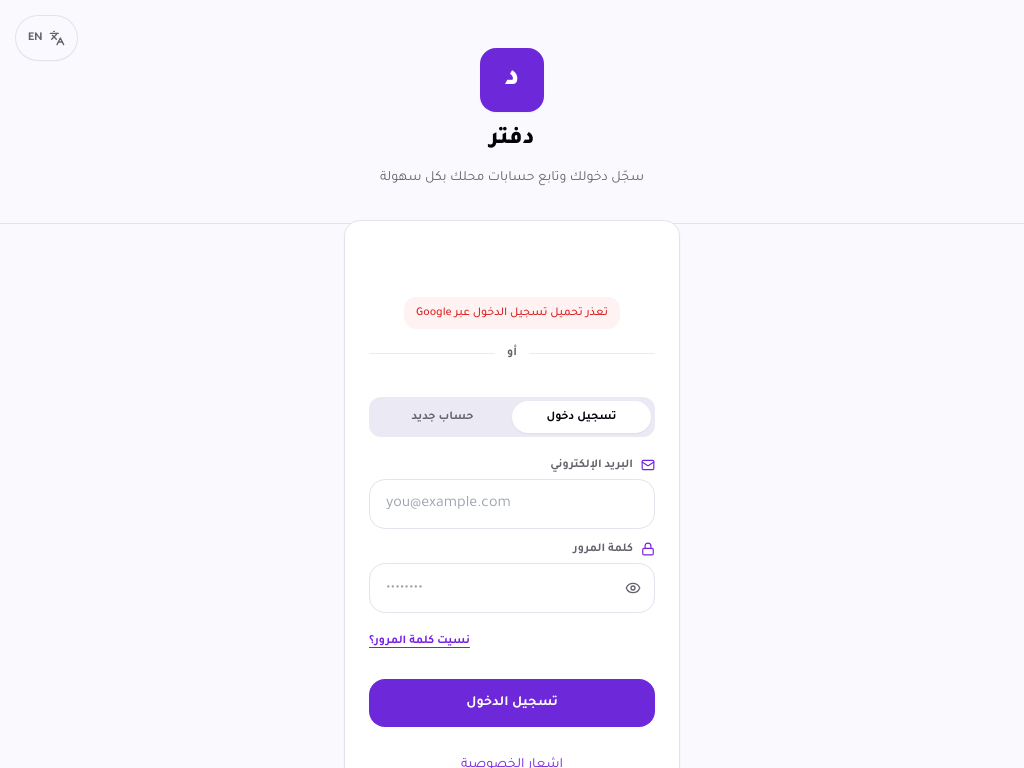
صفحة تسجيل الدخول بدون رقم الجوال › ينشئ الحساب بالبريد دون طلب رقم جوال
Click the button "حساب جديد": (442, 417) x1=373 y1=401 x2=512 y2=433
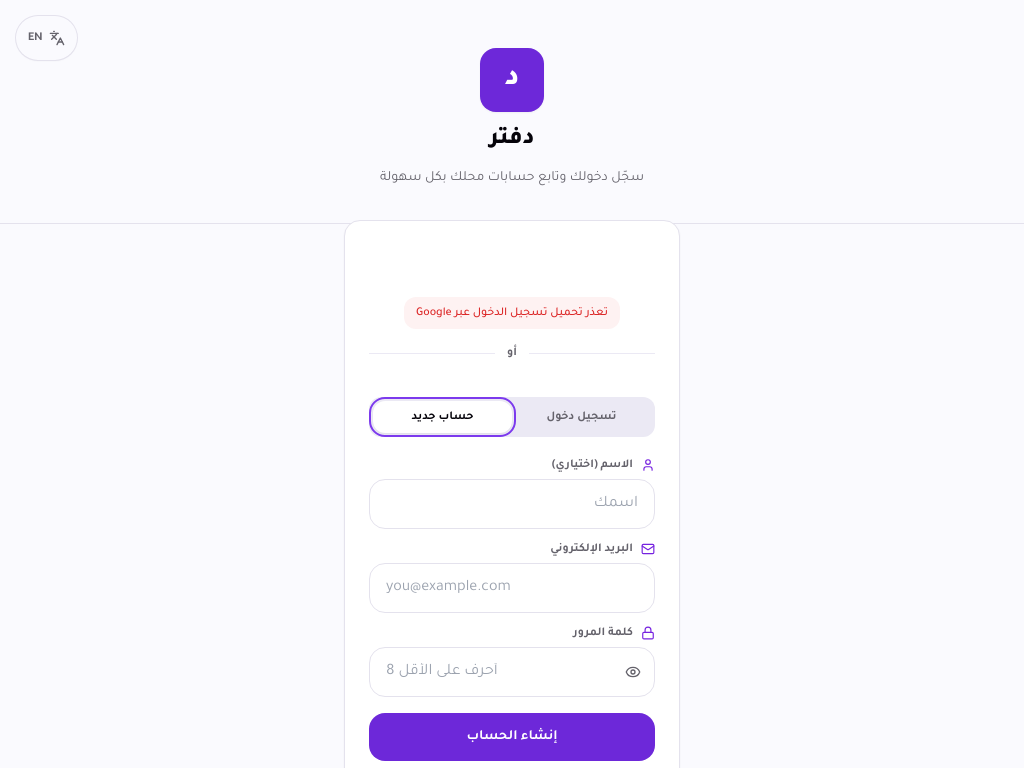
In the field labelled "البريد الإلكتروني": (512, 588) x1=369 y1=563 x2=655 y2=613, type "test@example.com"
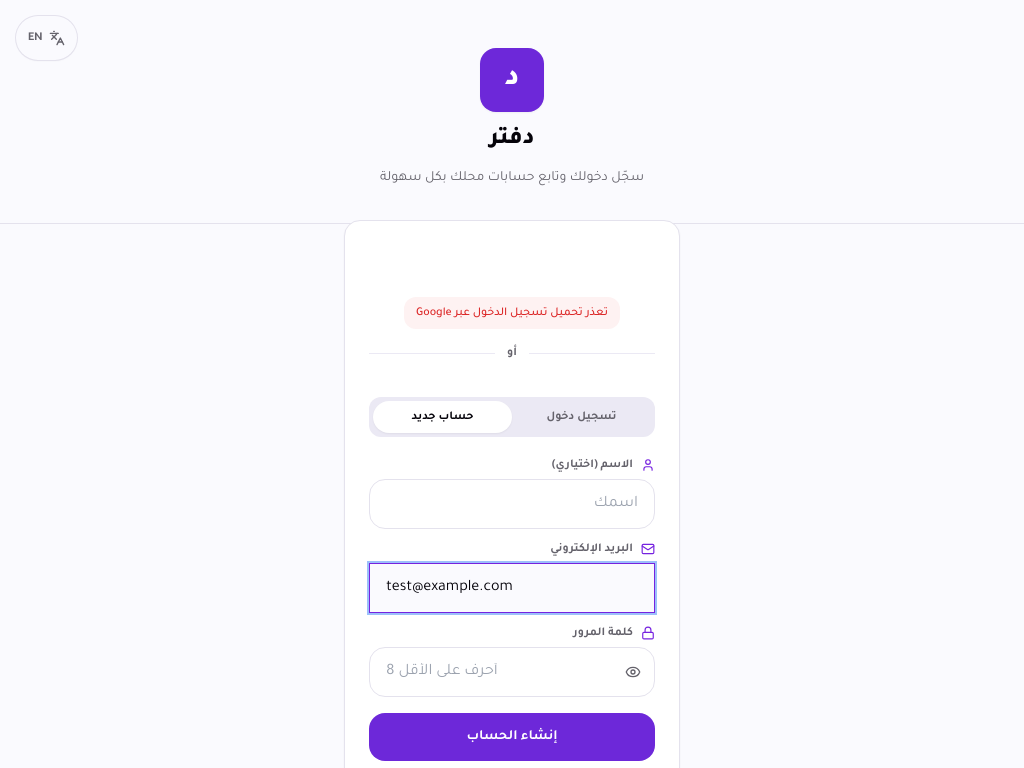
In the password field labelled "كلمة المرور": (512, 672) x1=369 y1=647 x2=655 y2=697, type "password123"
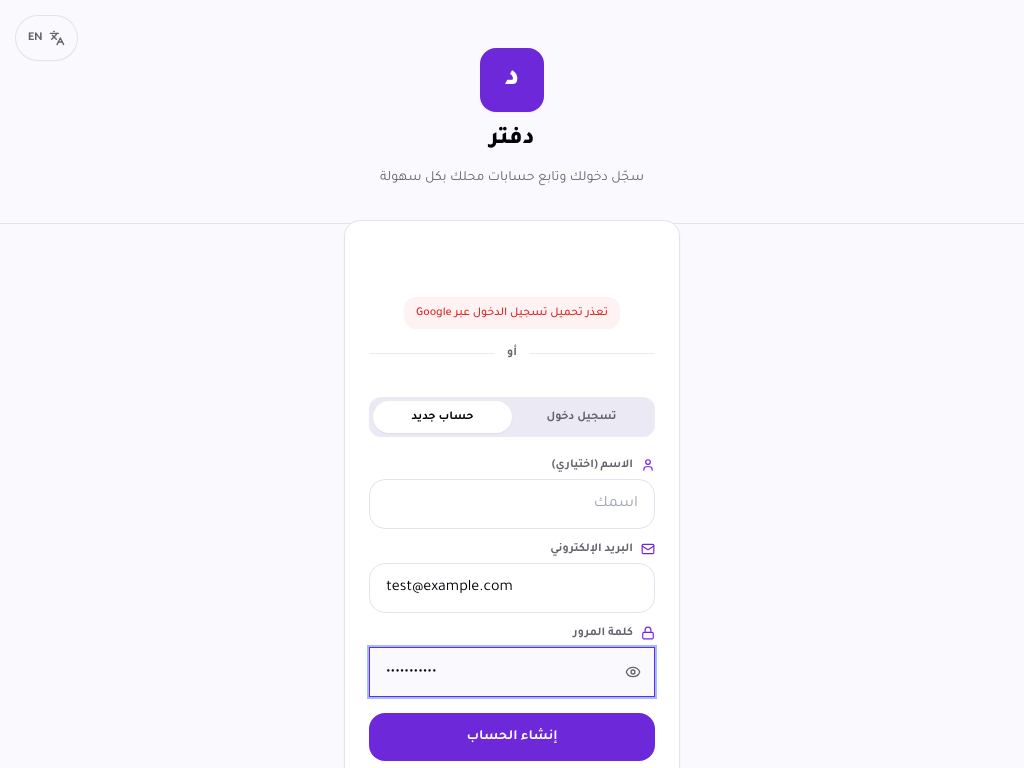
Click the button "إنشاء الحساب": (512, 737) x1=369 y1=713 x2=655 y2=761
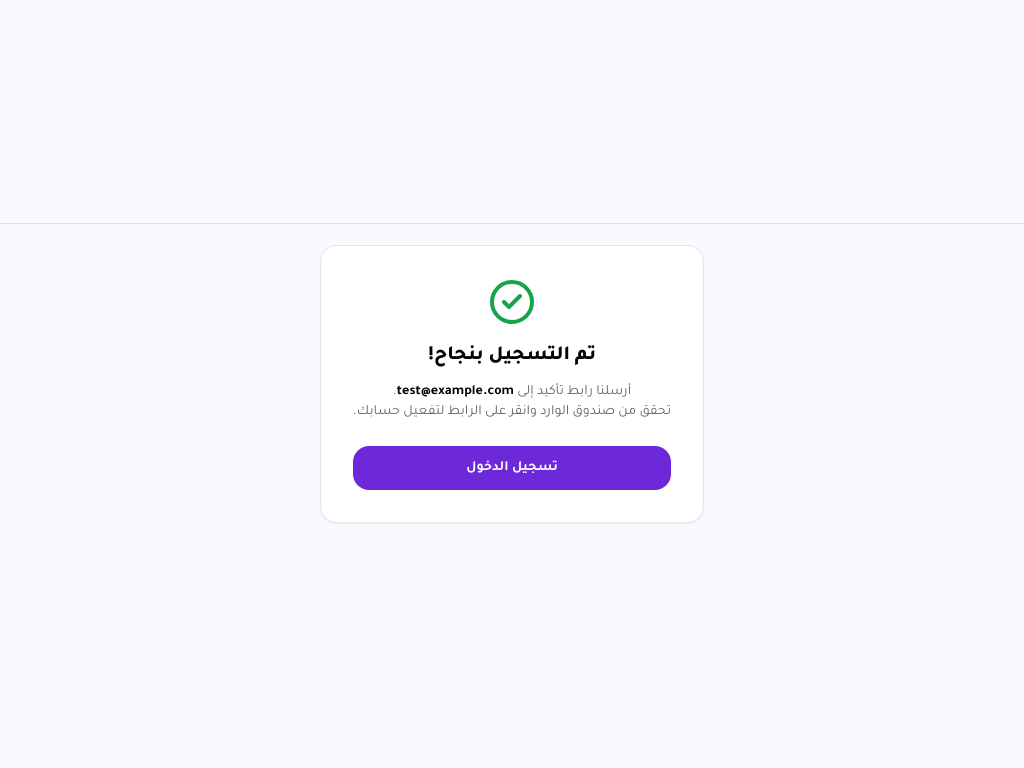
Expected: the heading "تم التسجيل بنجاح!" is shown, x1=428 y1=346 x2=596 y2=366
